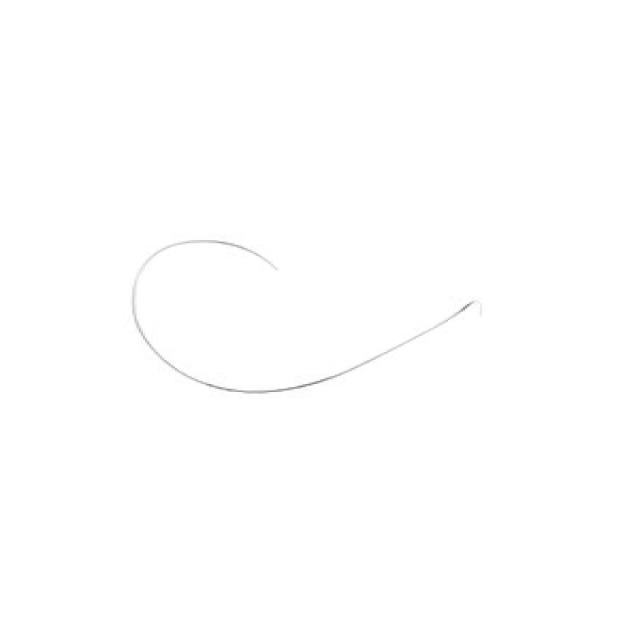hair: (119, 232, 492, 403)
